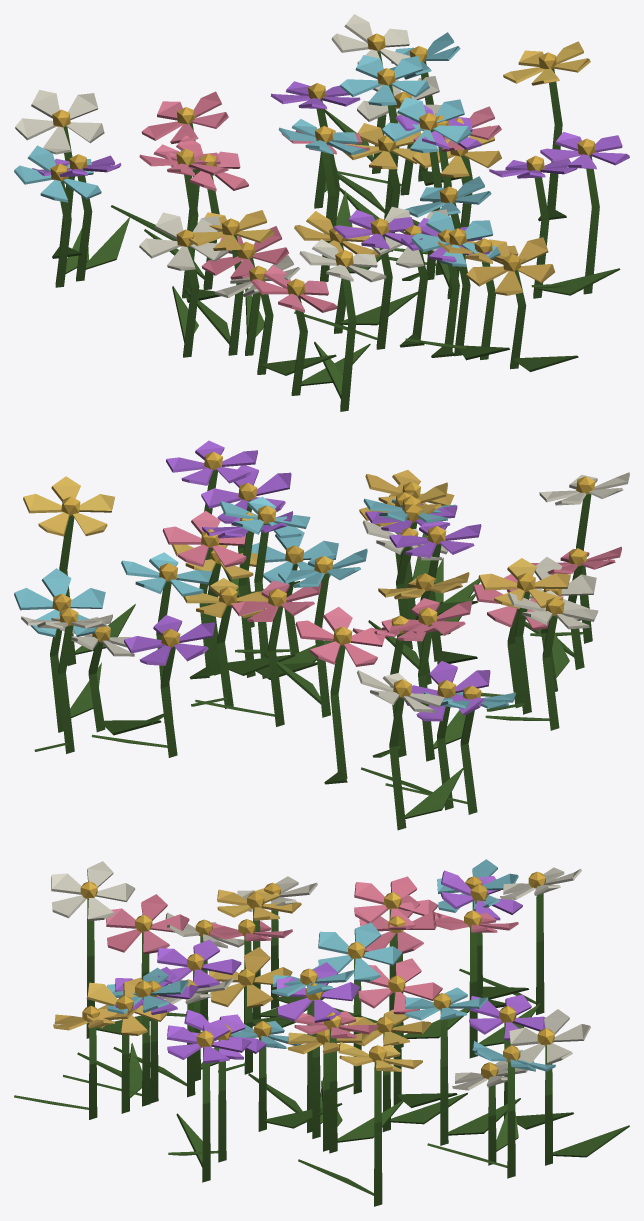
Rendered from flowers.fbx.
3 renders of one model, top to bottom at view 1: azimuth 30°, elevation 25°; view 2: azimuth 150°, elevation 25°; view 3: azimuth 270°, elevation 25°, orthographic. The views are drawn at different scales.
Parts seen in each view (by area): view 1: flowers_0, flowers_4, flowers_1, flowers_2, flowers_3; view 2: flowers_4, flowers_3, flowers_2, flowers_0, flowers_1; view 3: flowers_2, flowers_3, flowers_4, flowers_1, flowers_0.
Boxes of the visible parts, <box> form: flowers_0: <box>15,14,448,411</box>; flowers_4: <box>14,32,509,360</box>; flowers_1: <box>184,41,590,371</box>; flowers_2: <box>32,81,629,357</box>; flowers_3: <box>111,91,501,395</box>; flowers_4: <box>14,496,515,814</box>; flowers_3: <box>162,511,621,784</box>; flowers_2: <box>91,440,490,810</box>; flowers_0: <box>21,472,629,830</box>; flowers_1: <box>23,470,570,714</box>; flowers_2: <box>77,870,573,1182</box>; flowers_3: <box>106,876,540,1153</box>; flowers_4: <box>63,859,555,1178</box>; flowers_1: <box>14,888,467,1206</box>; flowers_0: <box>51,861,629,1165</box>.
Bounding box in the file's own units: 1.26 × 0.3909 × 1.34.
